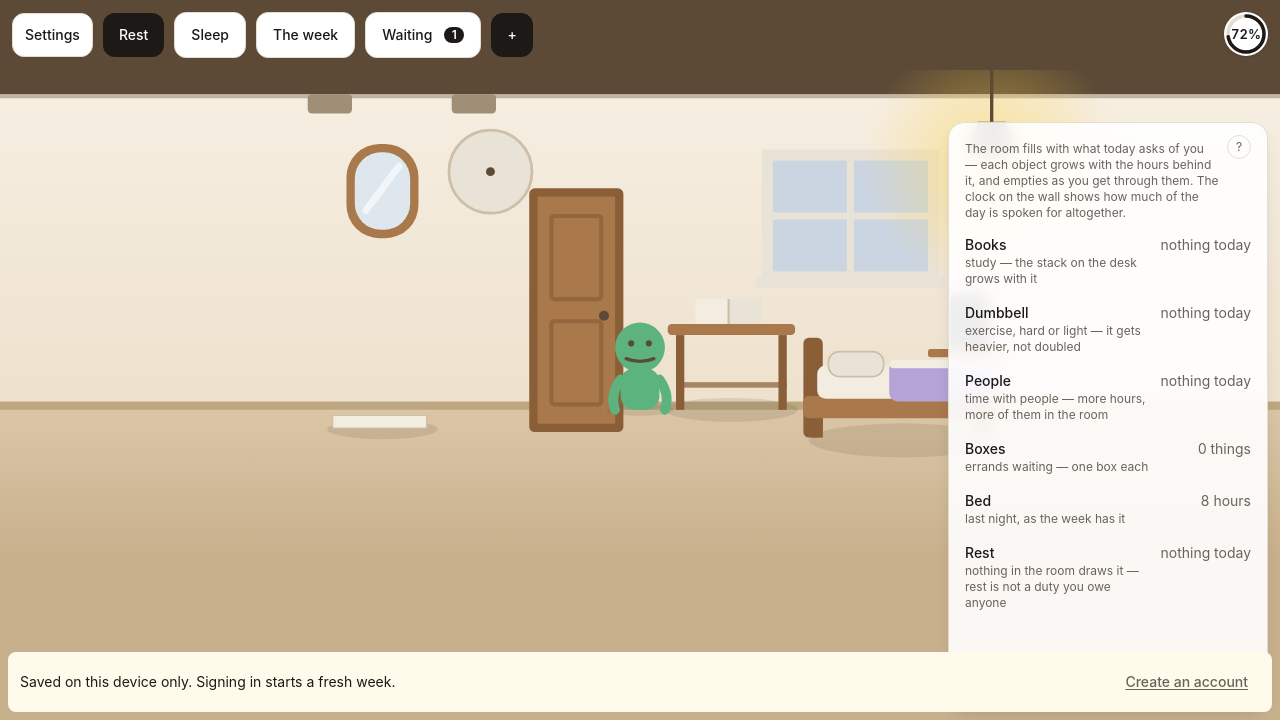
the sleep page › how much sleep is enough for this student › does not rewrite the target the student stated
Click the button with test id "open-sleep" at (210, 35), box top-left (174, 12), bottom-right (246, 58)
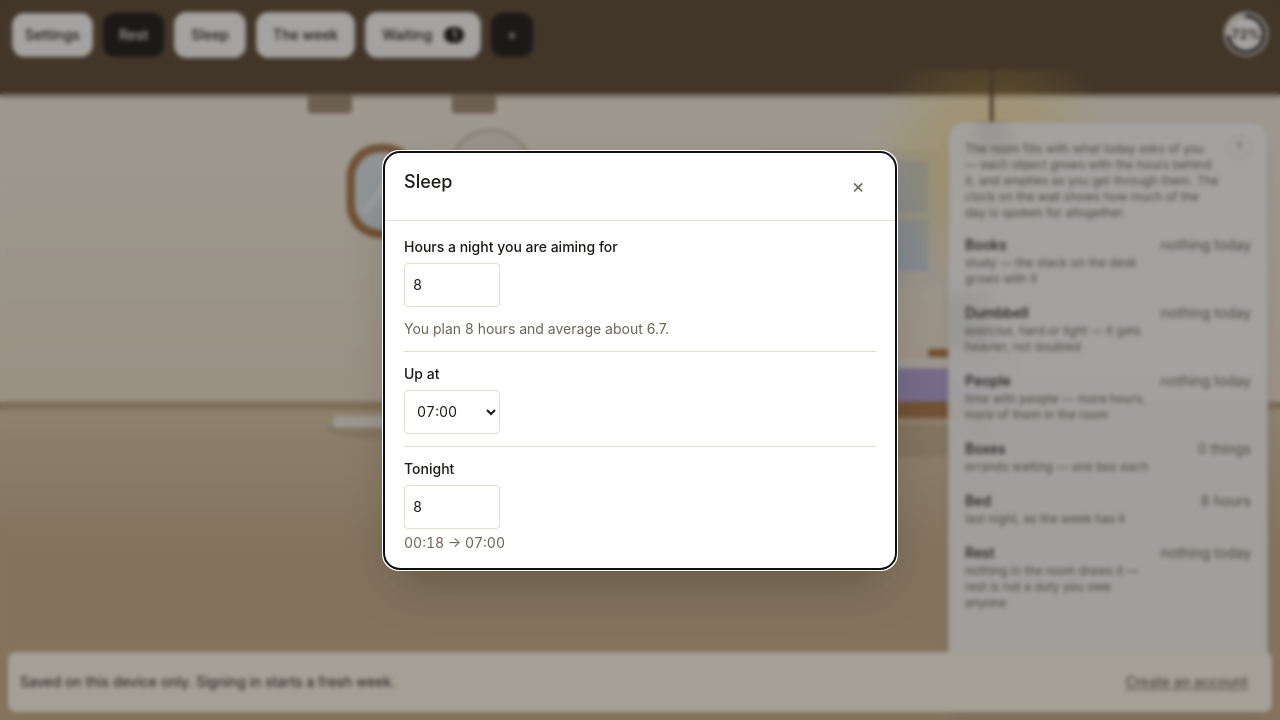
Result: the number field with test id "sleep-target" holds "8" at top-left (404, 262), bottom-right (500, 306)
